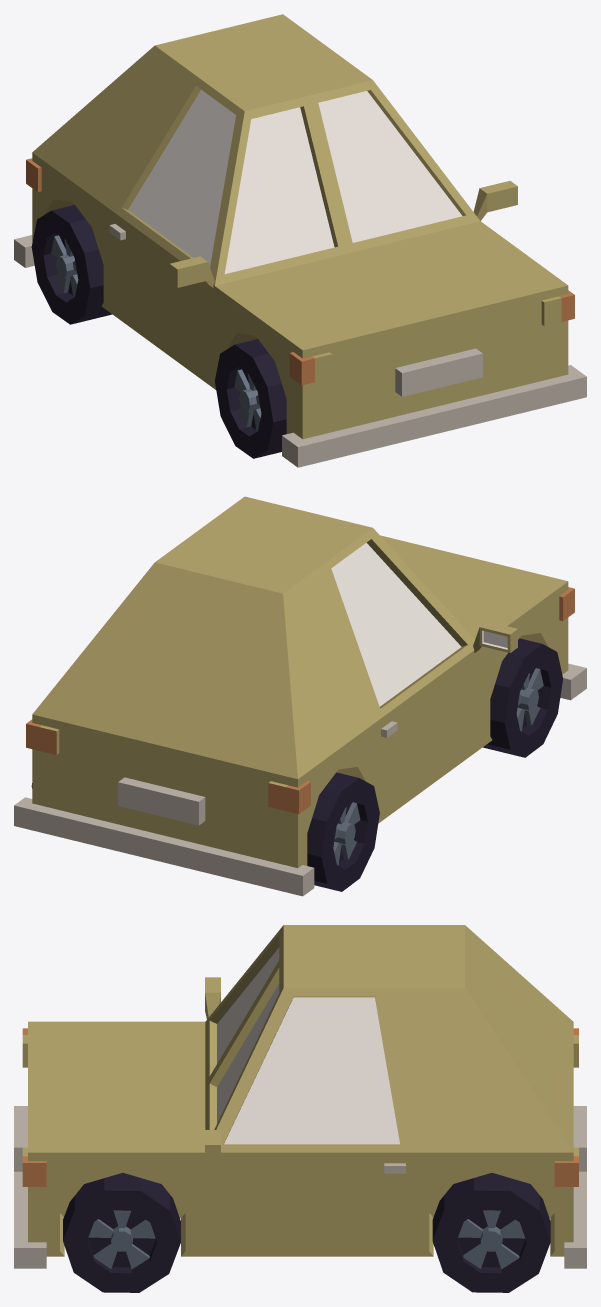
File: car 11.fbx
3 views of the same model, one above another, from view 1: azimuth 30°, elevation 25°; view 2: azimuth 150°, elevation 25°; view 3: azimuth 270°, elevation 25° (orthographic).
Visible parts, largest first — view 1: car 10; view 2: car 10; view 3: car 10.
Boxes of the visible parts, x1=… form: car 10: x1=14, y1=14, x2=586, y2=467; car 10: x1=14, y1=496, x2=586, y2=896; car 10: x1=14, y1=925, x2=586, y2=1292.
Size of the model in its own units: 235 by 174 by 340.
